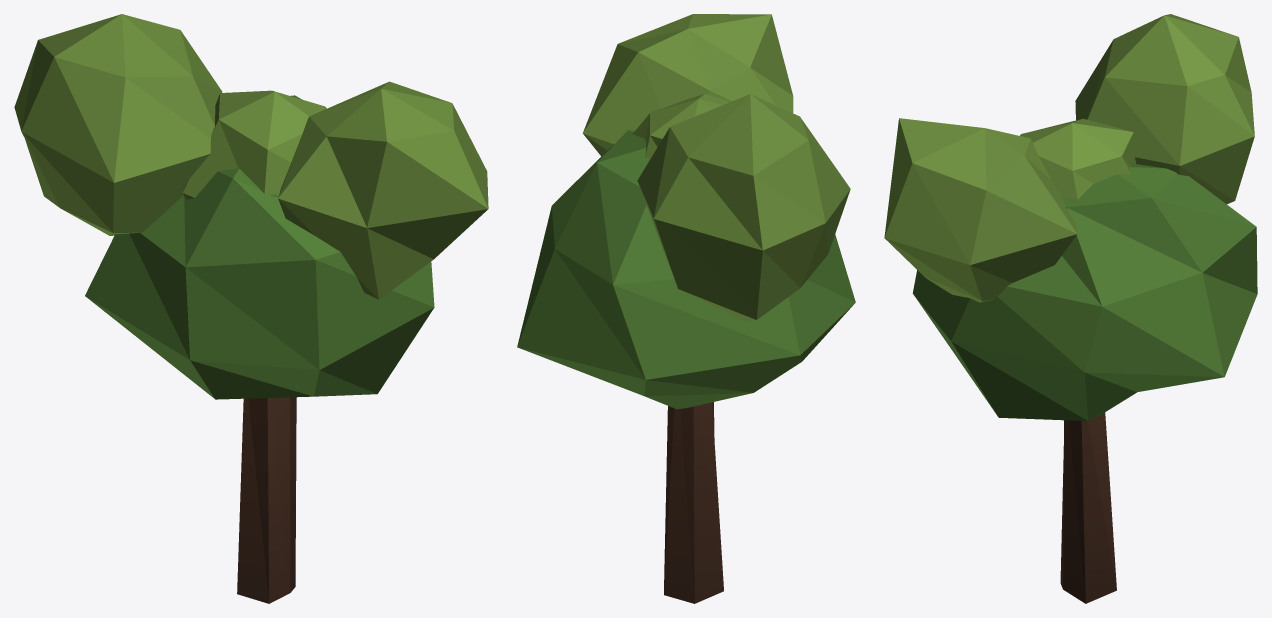
The model's file is tree_green_2.glb.
The picture shows the model from 3 angles, left to right: view 1: azimuth 30°, elevation 25°; view 2: azimuth 150°, elevation 25°; view 3: azimuth 270°, elevation 25°; orthographic projection. The views are drawn at different scales.
Visible parts, largest first — view 1: tree_green_2; view 2: tree_green_2; view 3: tree_green_2.
Boxes of the visible parts, x1=… form: tree_green_2: x1=14, y1=14, x2=488, y2=603; tree_green_2: x1=517, y1=14, x2=855, y2=603; tree_green_2: x1=884, y1=14, x2=1257, y2=603.
Size of the model in its own units: 0.7286 by 1.14 by 0.7297.
